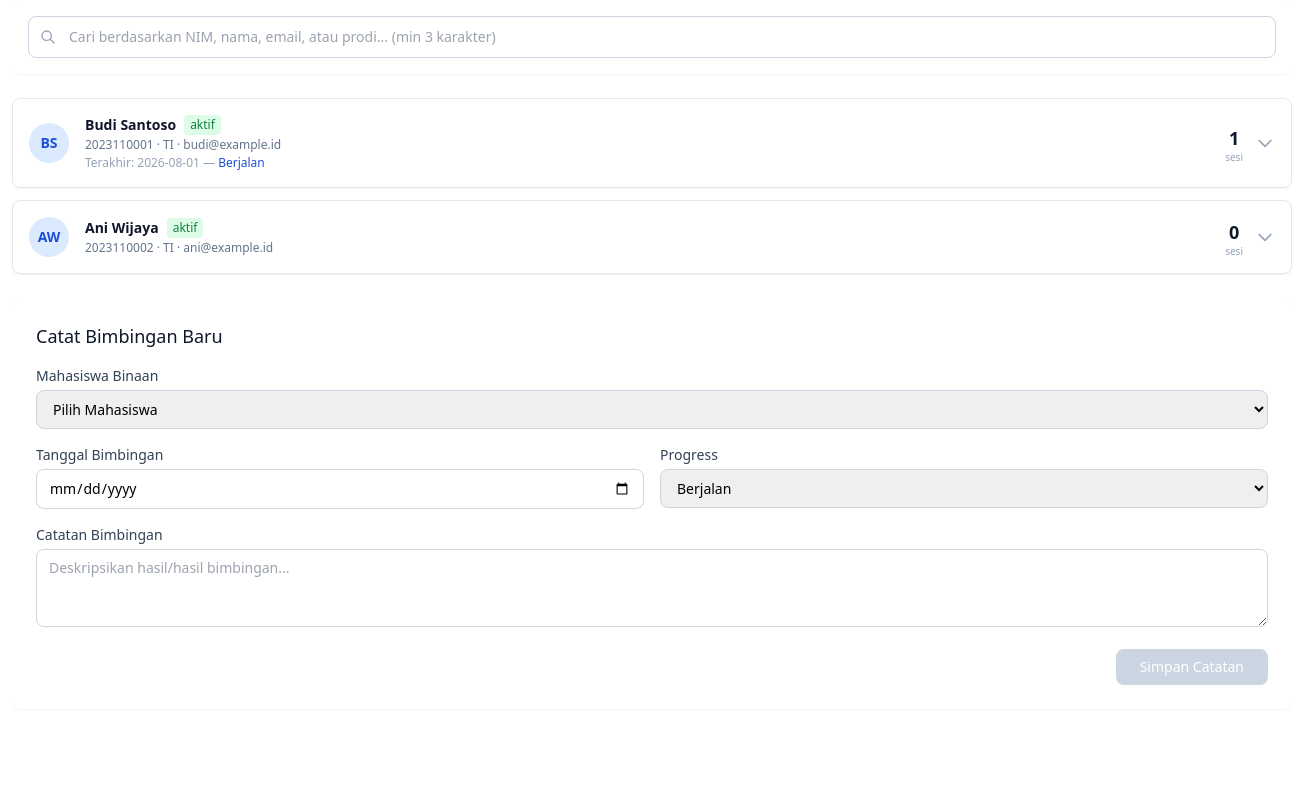
Test: DosenGuidance › expand card — show session detail
Note: Click on Budi's card to expand
Click the heading "Budi Santoso": [131, 125] box [85,115,176,135]
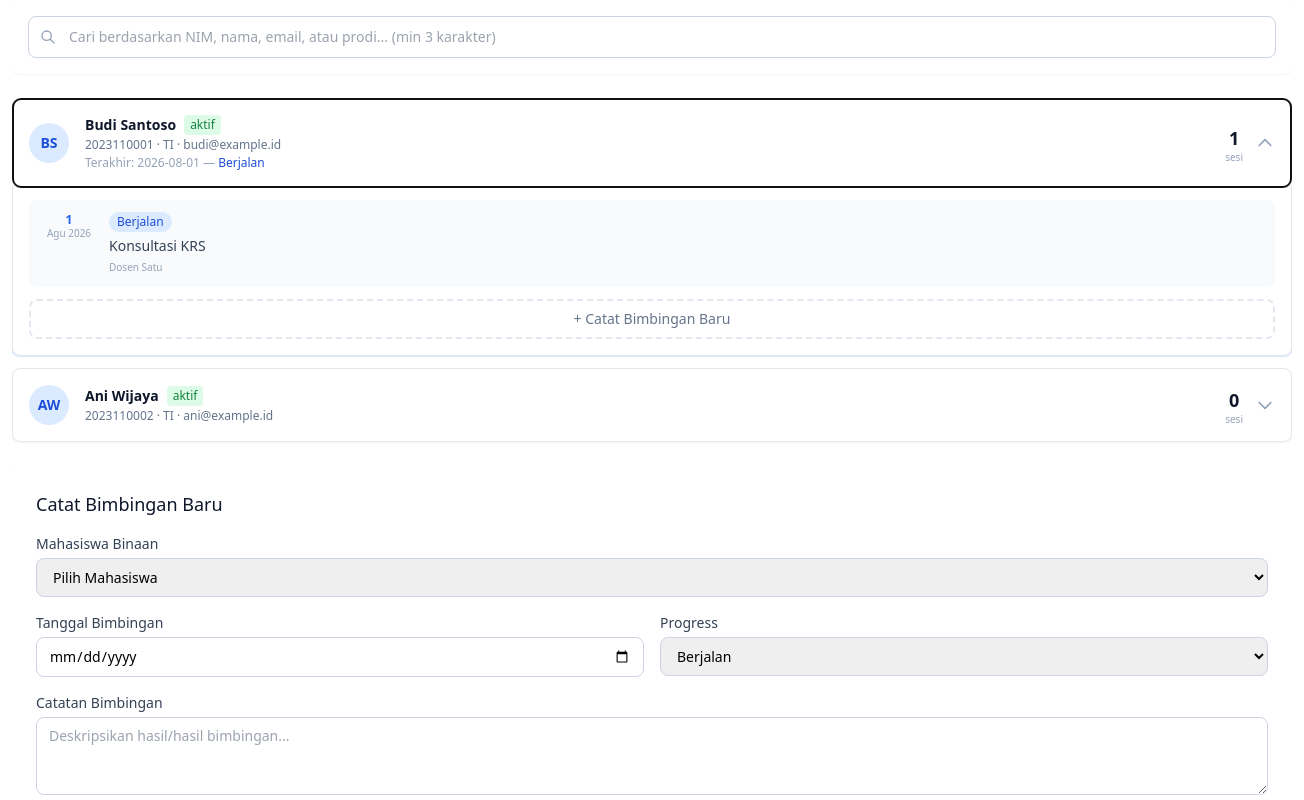
expect the text "Konsultasi KRS" is shown: met, box [109,236,206,255]
